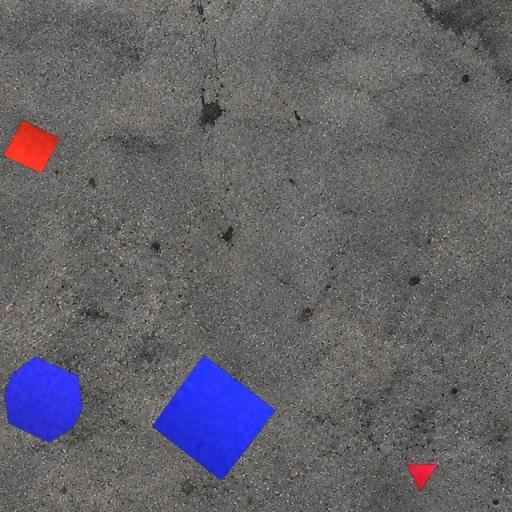BLUE_SQUARE: (151, 354, 276, 482)
RED_SQUARE: (3, 120, 60, 174)
